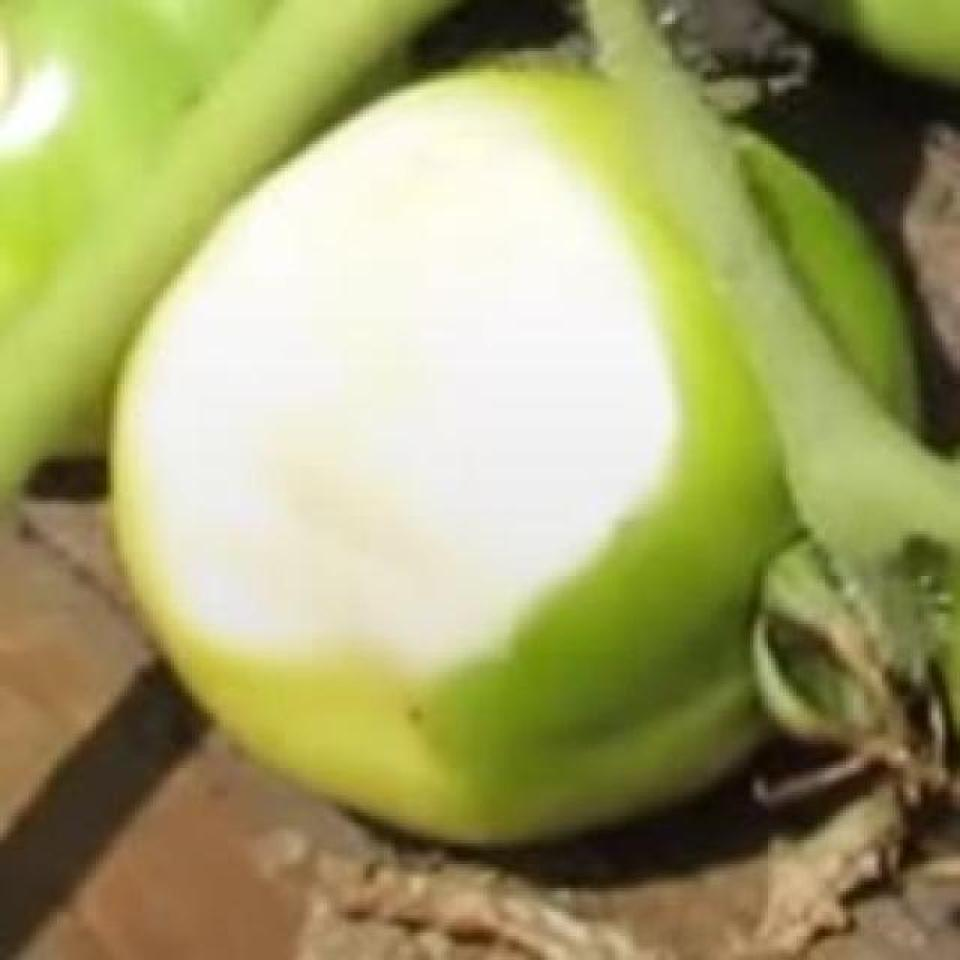Sunscald: (114, 82, 690, 665)
